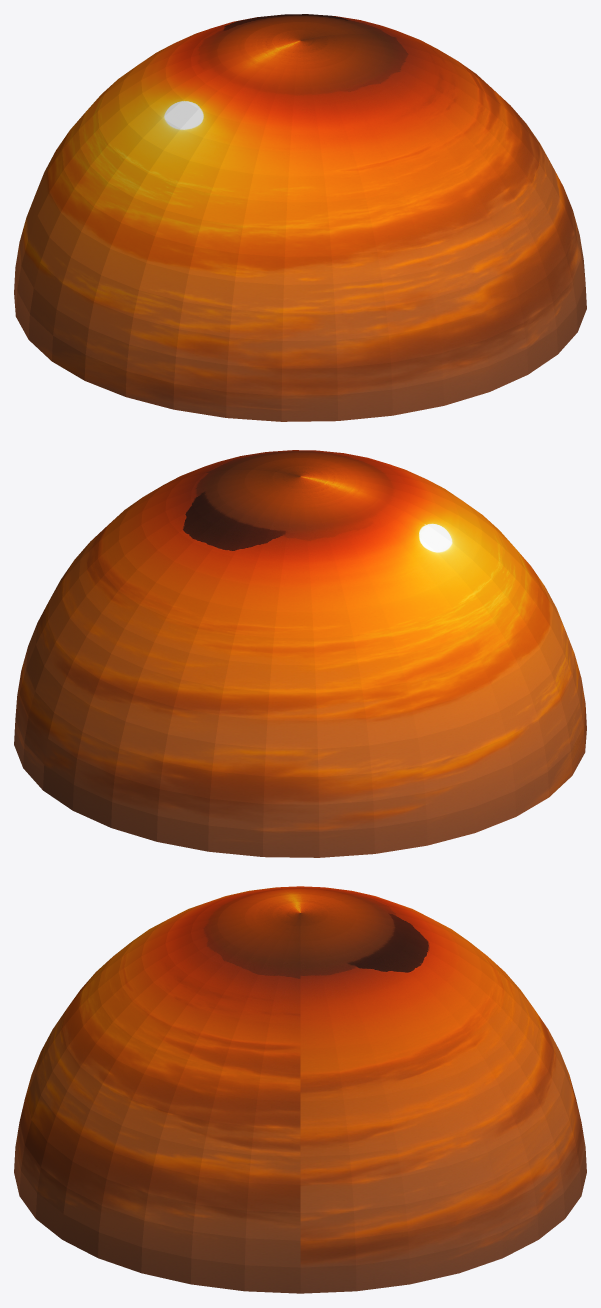
Rendered from SkyDome_3.fbx.
3 renders of one model, top to bottom at view 1: azimuth 30°, elevation 25°; view 2: azimuth 150°, elevation 25°; view 3: azimuth 270°, elevation 25°, orthographic.
Visible parts, largest first — view 1: skydome_hemisphere; view 2: skydome_hemisphere; view 3: skydome_hemisphere.
Part boxes in pixels (box(x1,y1,x2,y2)): skydome_hemisphere: box(14, 14, 586, 421); skydome_hemisphere: box(14, 450, 586, 857); skydome_hemisphere: box(14, 886, 586, 1293).
Size of the model in its own units: 20000 by 10100 by 20000.
2 materials, 1 textured.
